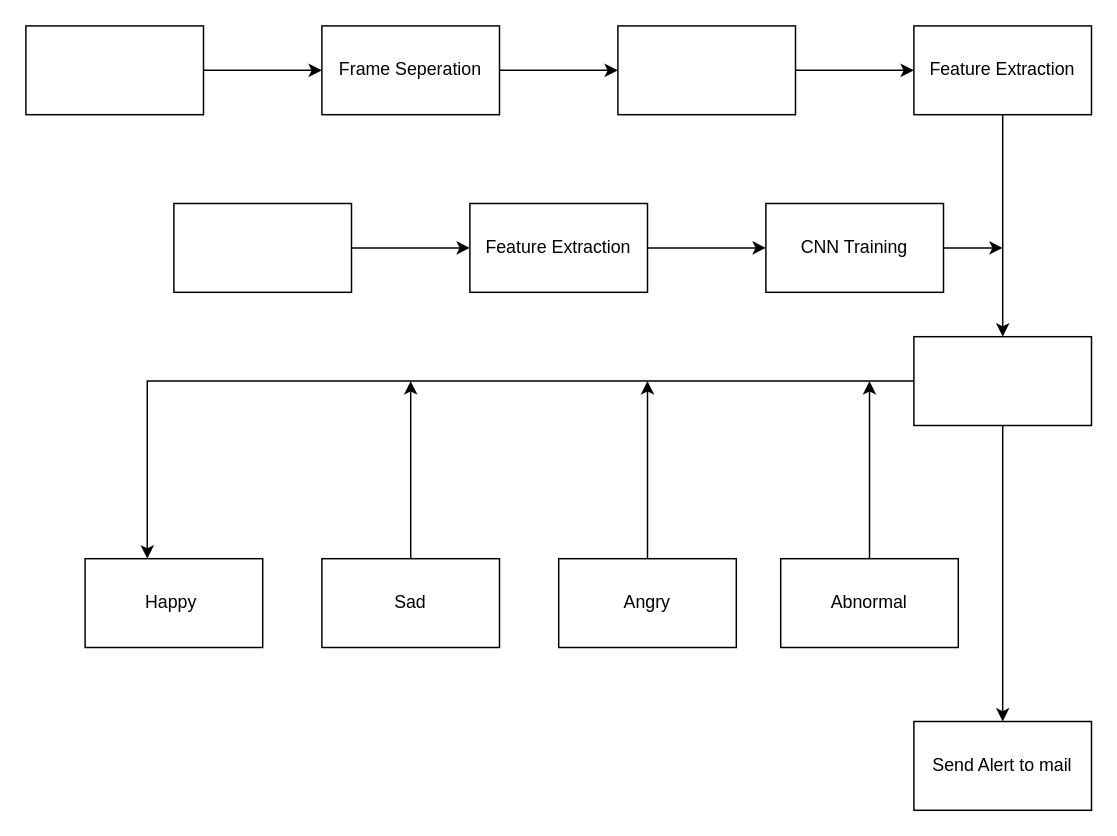
The diagram is 1117 pixels wide and 836 high, and some of its shapes have lost their labels. Each missing label, with the box of its shape:
CNN Classifier: (912, 335, 1092, 426)
Database: (172, 202, 352, 292)
Input Video: (24, 24, 204, 115)
Pre-Processing: (616, 24, 796, 115)
